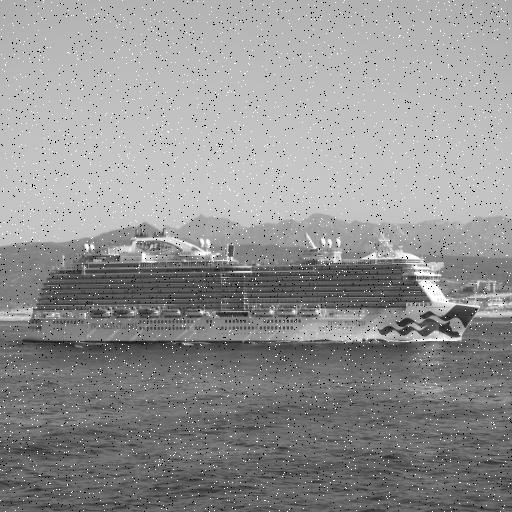cruises: (27, 230, 487, 347)
